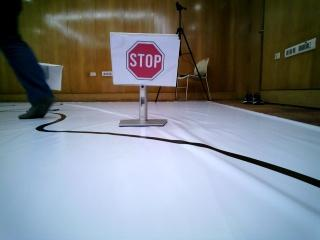stop: (110, 34, 175, 88)
